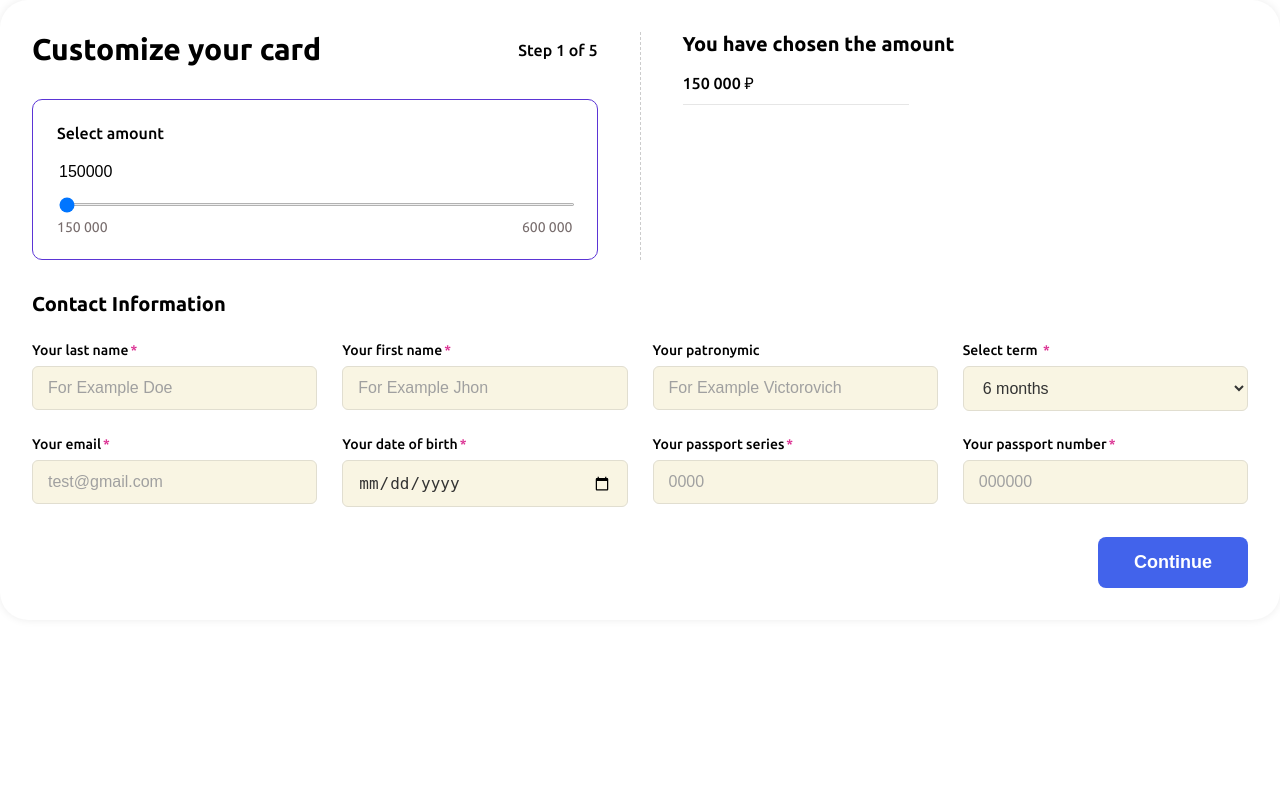
Test: CustomizeCardForm › Показывает ошибки при пустых обязательных полях
Step 1. Click the button "Continue" → (1173,562), box [1098,537,1248,588]
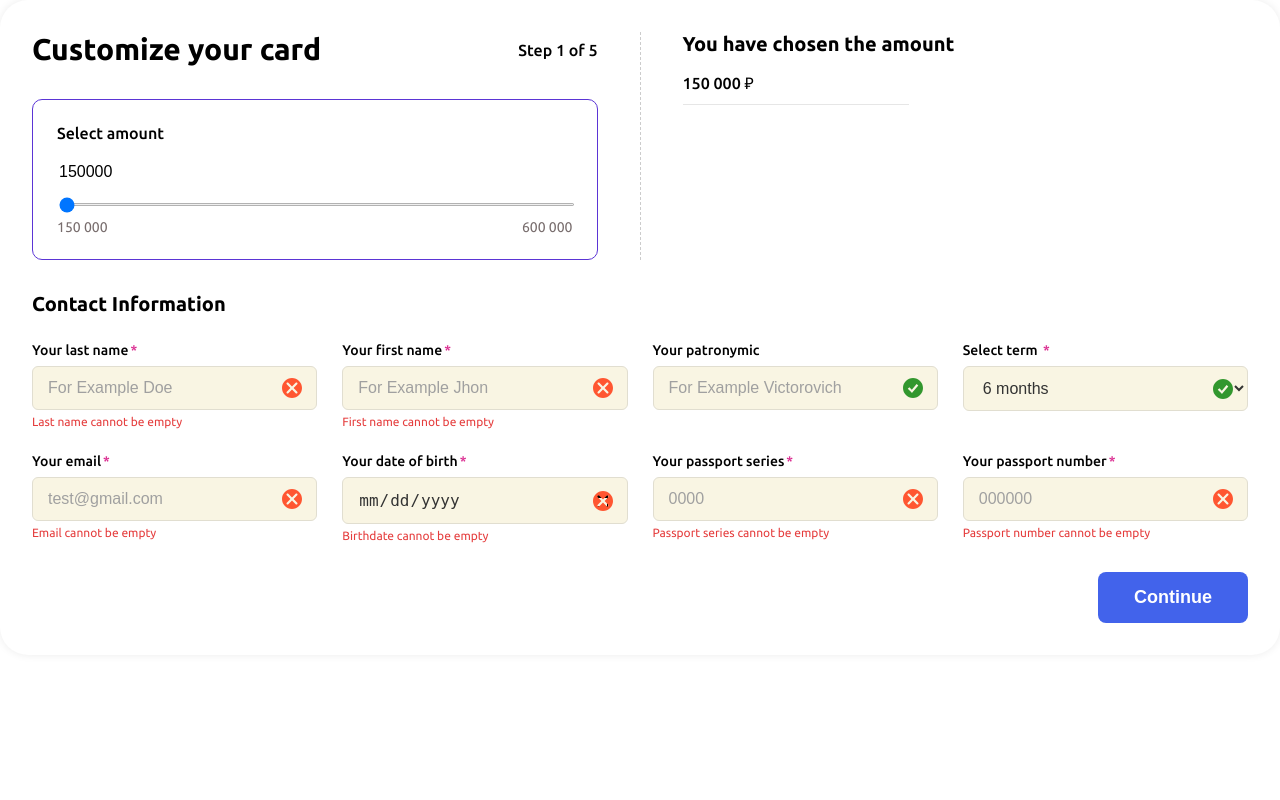
Expected: the text "First name cannot be empty" is shown, [342,415,494,428]
Expected: the text "Last name cannot be empty" is shown, [32,415,182,428]
Expected: the text "Email cannot be empty" is shown, [32,526,156,539]
